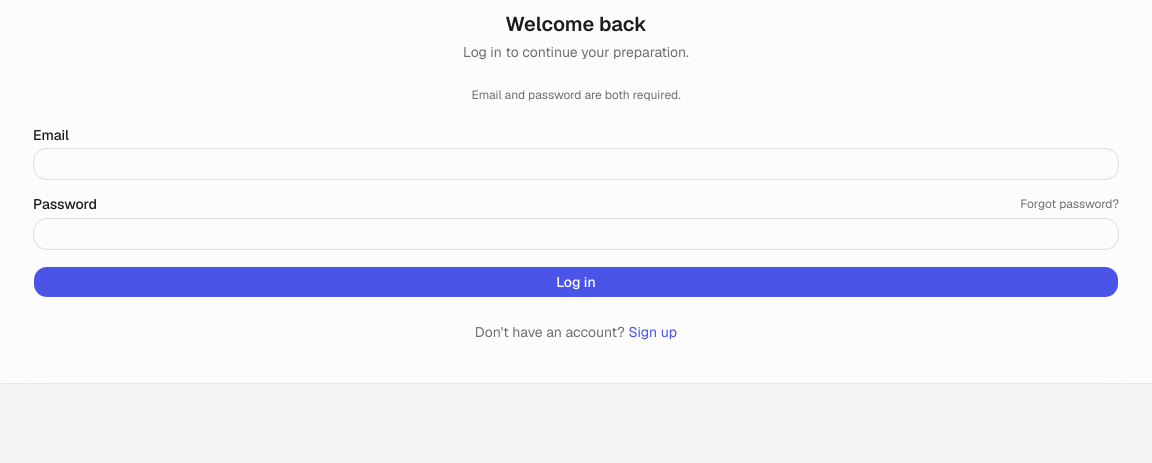
Test: LoginForm › never rejects an unauthenticated user's typed credentials on a network failure
Type "cadet@example.com" into the field labelled "Email".
click(576, 164); type("cadet@example.com")  # box [33,148,1119,180]
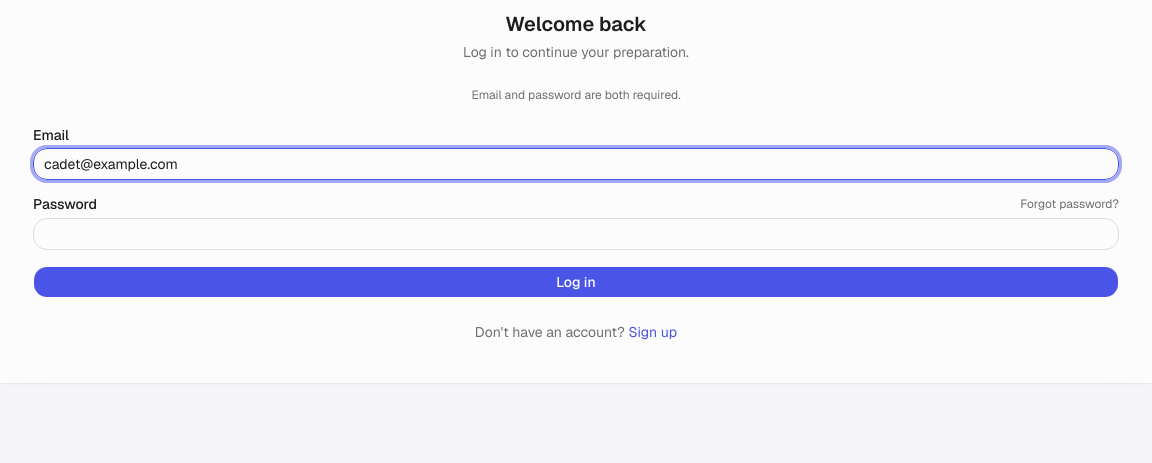
Type "correcthorse" into the password field labelled "Password".
click(576, 234); type("correcthorse")  # box [33,218,1119,250]
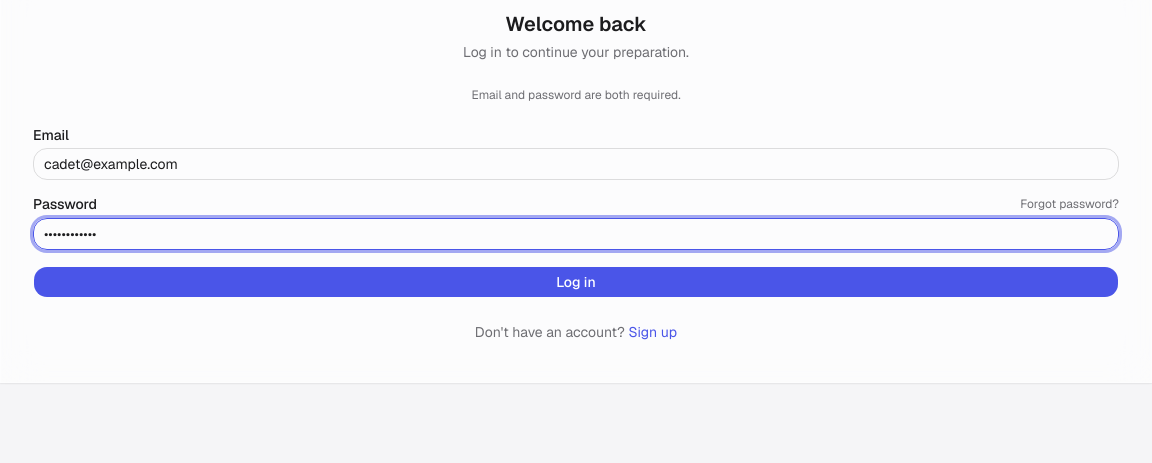
Click the button "Log in".
click(576, 282)  # box [33,266,1119,298]
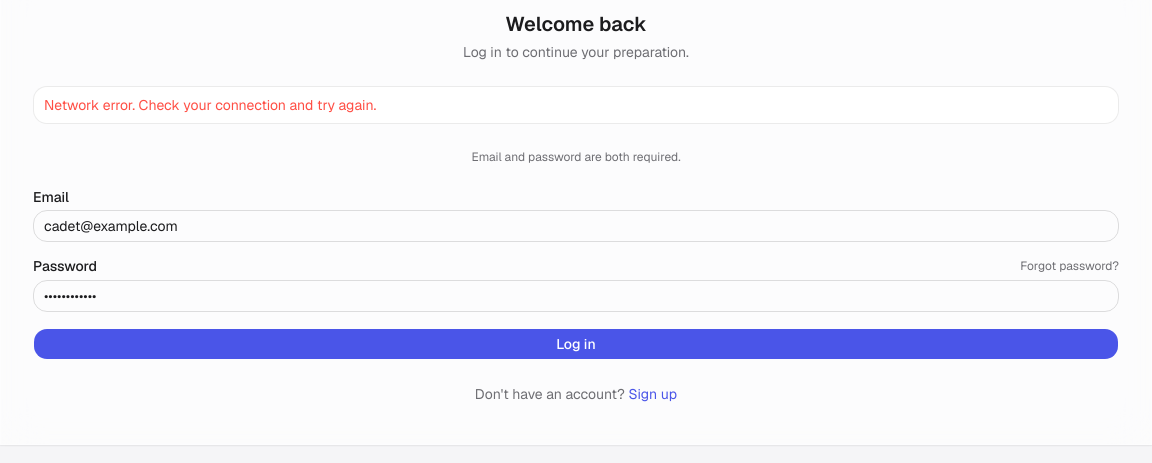
Expected: the text "Network error. Check your connection and try again." is shown, [44,96,376,114]
